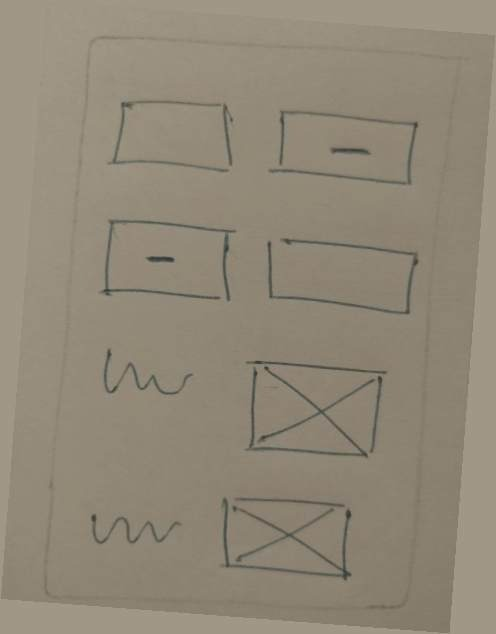button: (256, 94, 425, 200), (93, 211, 245, 314)
image: (229, 350, 394, 472), (206, 481, 362, 592)
text: (86, 337, 206, 415), (80, 495, 188, 561)
text_input: (255, 222, 422, 326), (102, 87, 243, 185)
